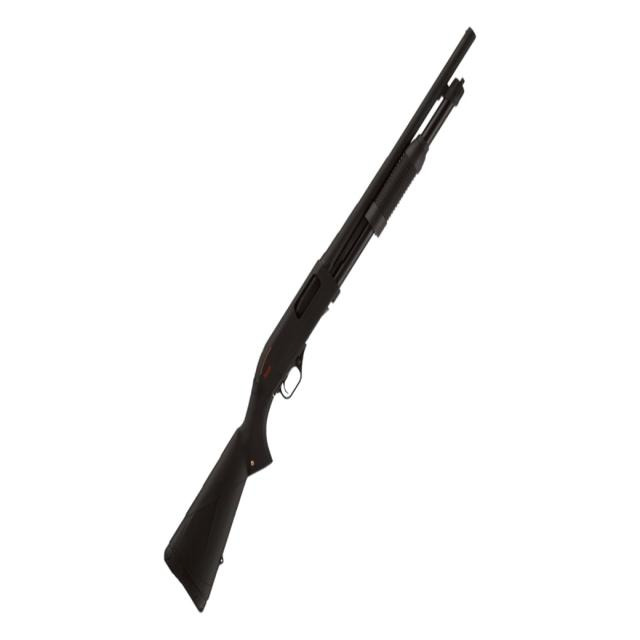ShotGun: (164, 30, 477, 613)
